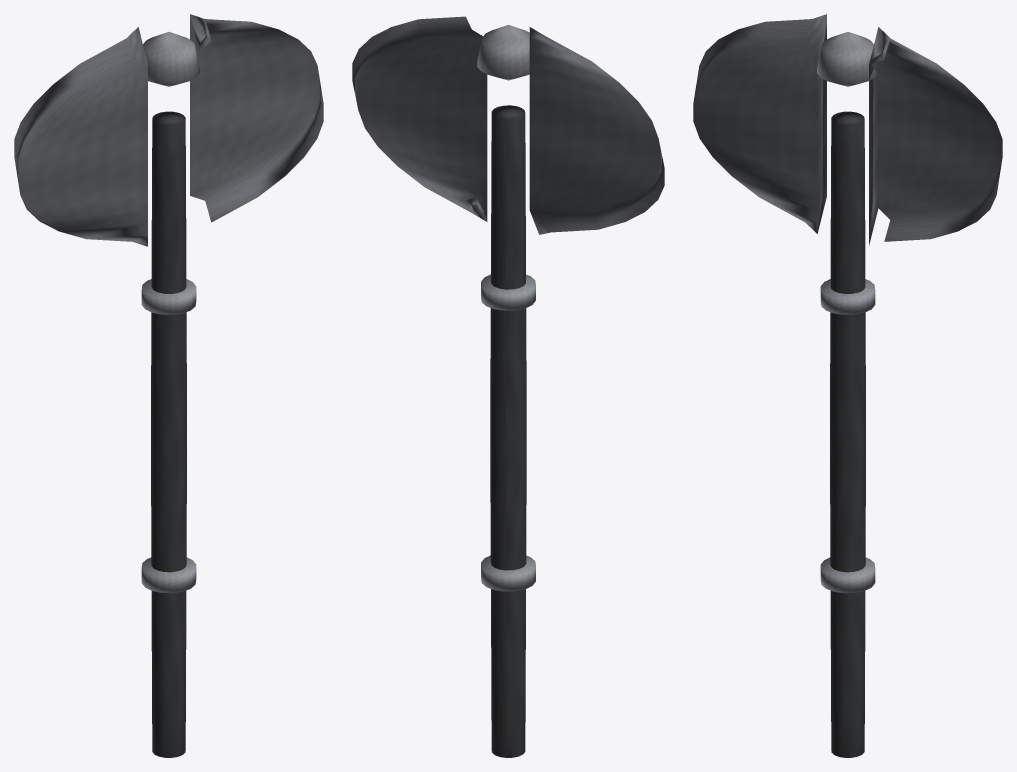
Rendered from generic_battleaxe.glb.
3 renders of one model, left to right at view 1: azimuth 30°, elevation 25°; view 2: azimuth 150°, elevation 25°; view 3: azimuth 330°, elevation 25°, orthographic.
Visible parts, largest first — view 1: Battle Axe; view 2: Battle Axe; view 3: Battle Axe.
Boxes of the visible parts, x1,y1,x2,y2 form: Battle Axe: [14, 14, 323, 757]; Battle Axe: [352, 16, 664, 757]; Battle Axe: [693, 14, 1002, 757].
Bounding box in the file's own units: 0.4019 × 0.92 × 0.0709.
Materials: 3 (3 with a texture image).
